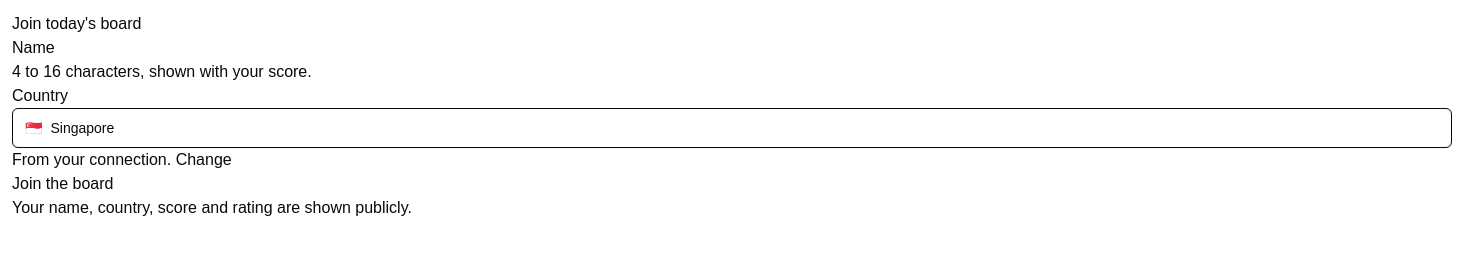
Test case: the join form's name and country descriptions › says an offensive name is not allowed and keeps the join button off
Expected: the text "From your connection." is shown, [12, 151, 171, 168]
Type "p3nis" into the field labelled "Name" at (158,48), box [55, 36, 262, 60]
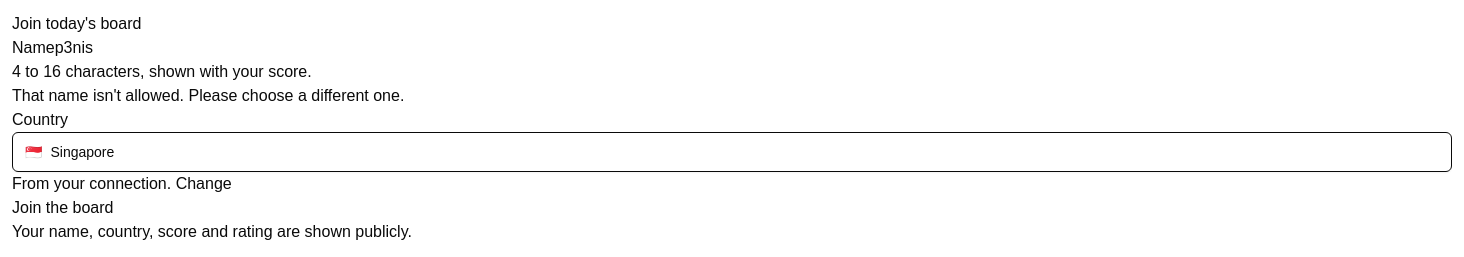
Expected: the button "Join the board" is disabled, [12, 196, 113, 220]
Now the text "That name isn't allowed. Please choose a different one." is shown, box [12, 87, 404, 104]
